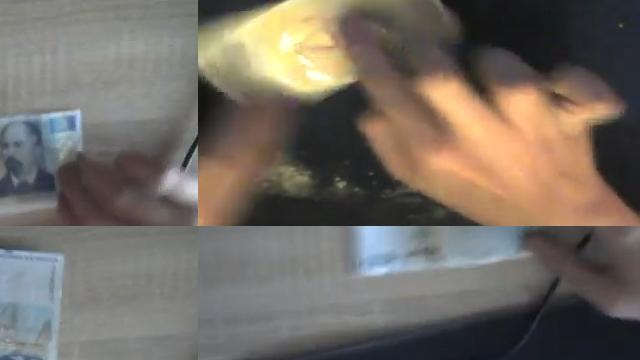20leva: (345, 226, 529, 277), (0, 110, 83, 214), (0, 246, 65, 360)
